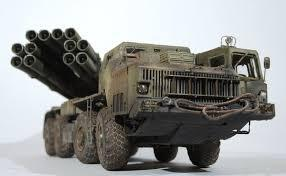MIL_SAM_TEL: (8, 27, 276, 169)
